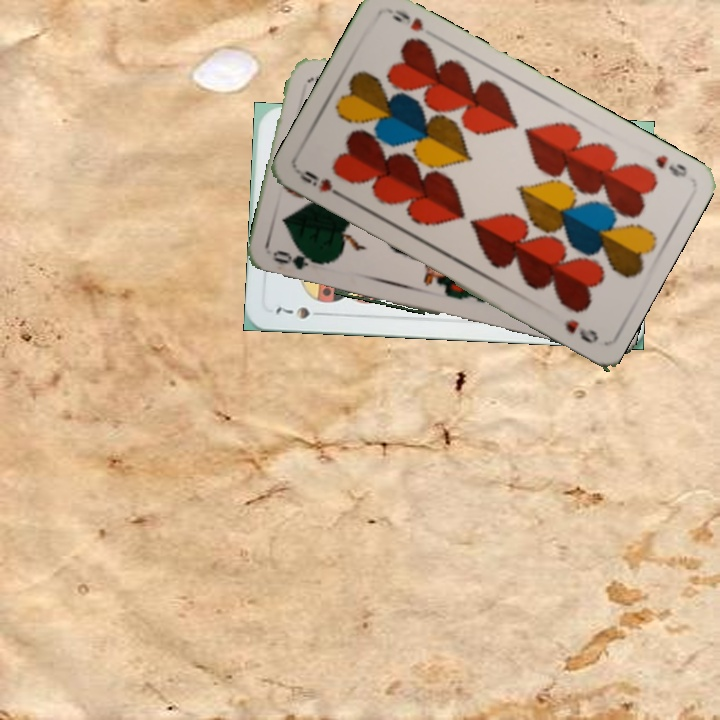GO: (270, 246, 330, 273)
H9: (294, 166, 349, 202), (651, 151, 690, 180)
S7: (271, 302, 328, 322)
